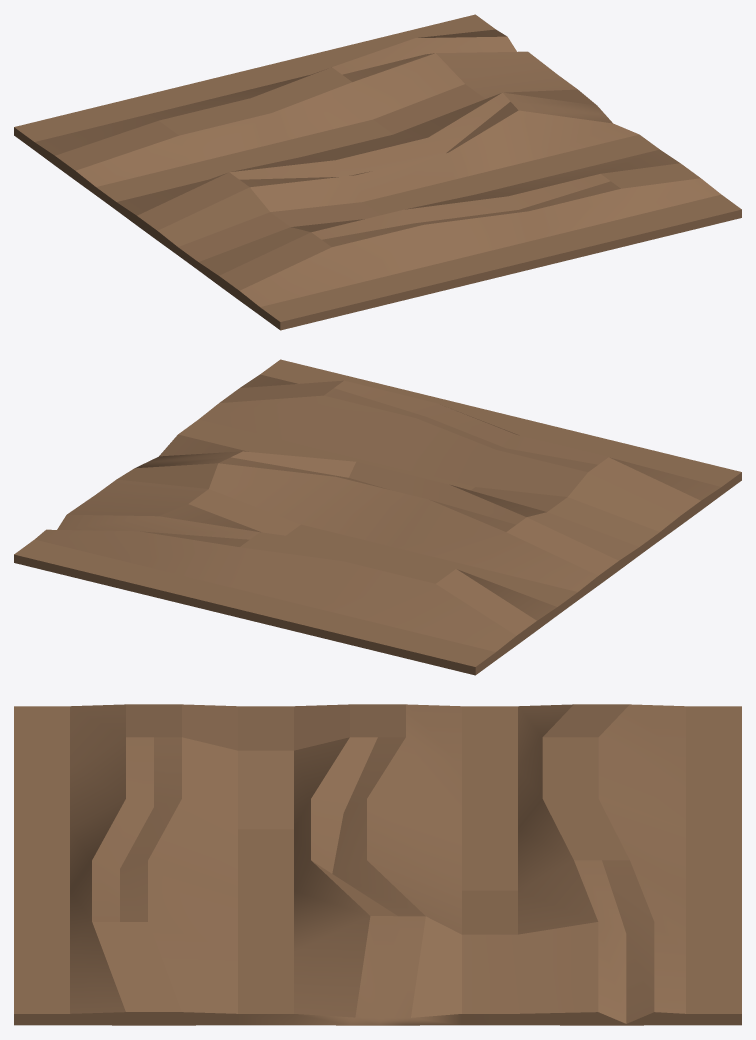
Rendered from DrySoil.fbx.
3 renders of one model, top to bottom at view 1: azimuth 30°, elevation 25°; view 2: azimuth 150°, elevation 25°; view 3: azimuth 270°, elevation 25°, orthographic. The views are drawn at different scales.
Parts seen in each view (by area): view 1: Cube.008; view 2: Cube.008; view 3: Cube.008.
Part boxes in pixels (x1=…): Cube.008: x1=14, y1=14, x2=741, y2=330; Cube.008: x1=14, y1=359, x2=741, y2=675; Cube.008: x1=14, y1=704, x2=741, y2=1025.
Bounding box in the file's own units: 45.01 × 3.42 × 44.94.
